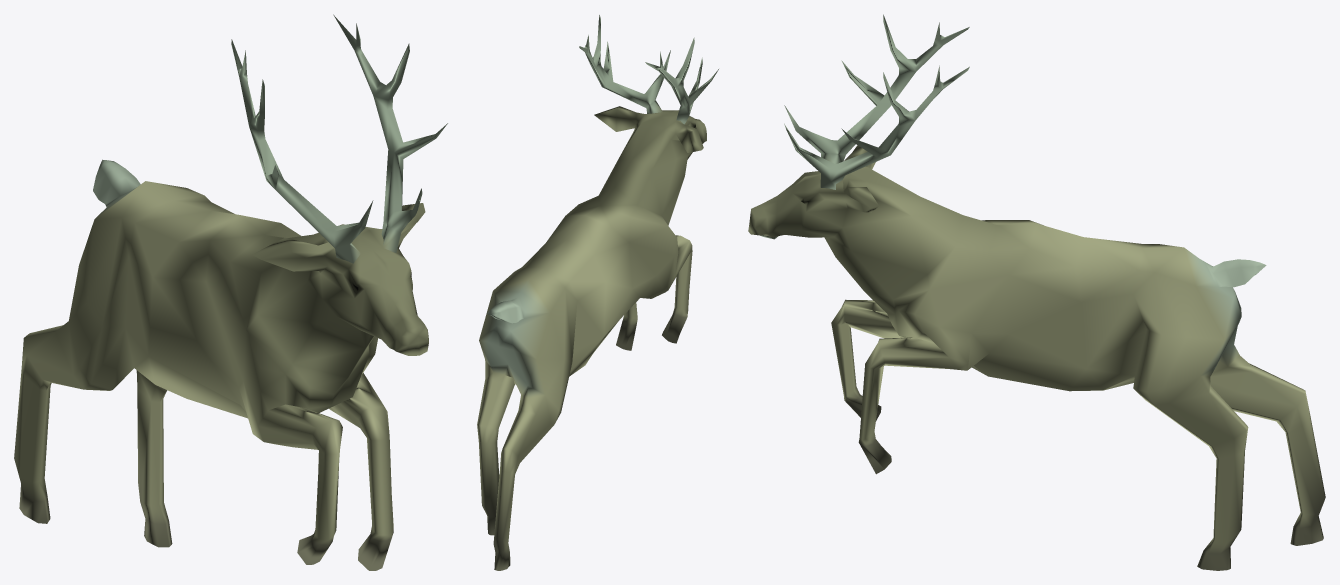
Rendered from elk.gltf.
The picture shows the model from 3 angles, left to right: view 1: azimuth 30°, elevation 25°; view 2: azimuth 150°, elevation 25°; view 3: azimuth 270°, elevation 25°; orthographic projection. The views are drawn at different scales.
Size of the model in its own units: 37.54 by 132 by 134.
